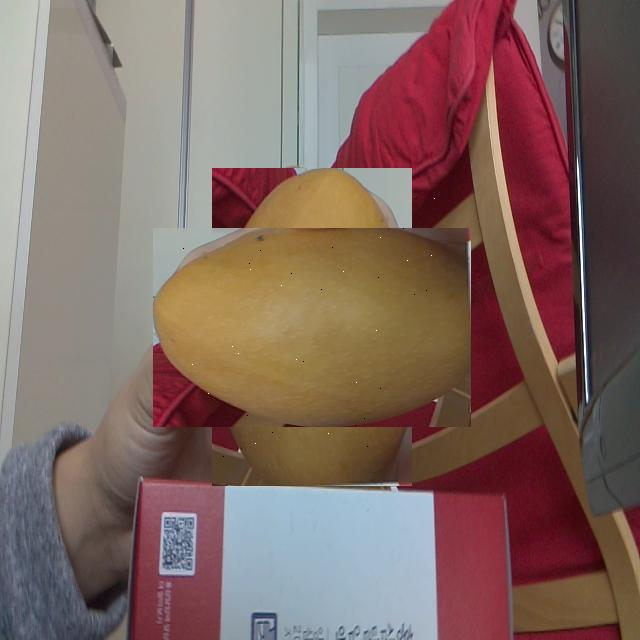pear: (182, 198, 442, 457)
